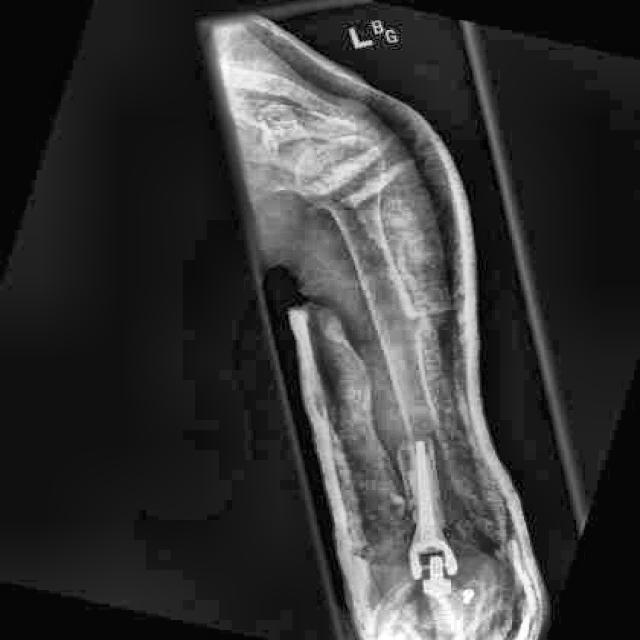humerus: (421, 410, 461, 487)
